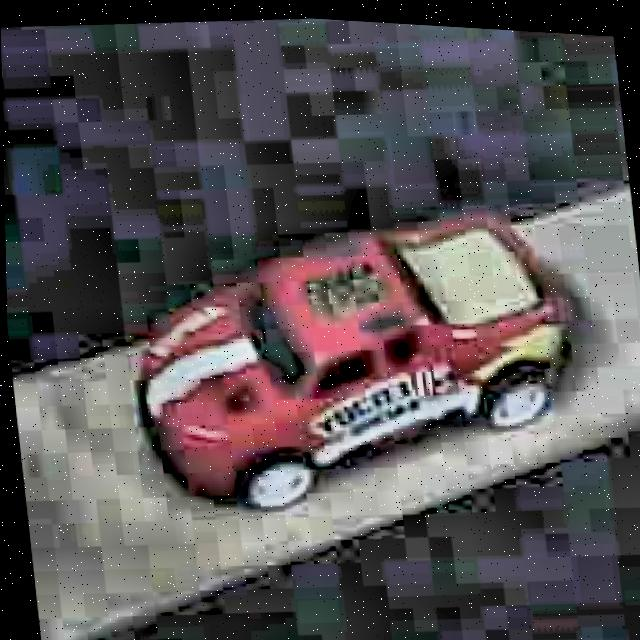car: (112, 177, 596, 546)
